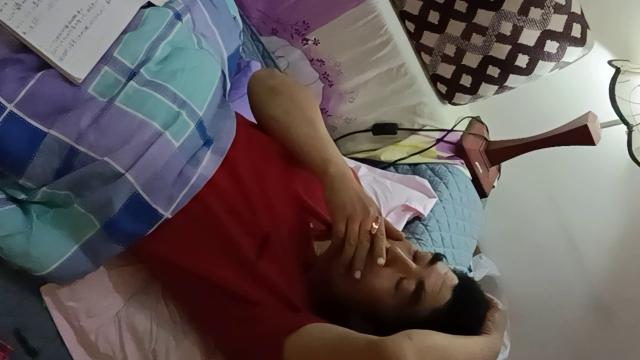Cigarette: (370, 216, 380, 241)
